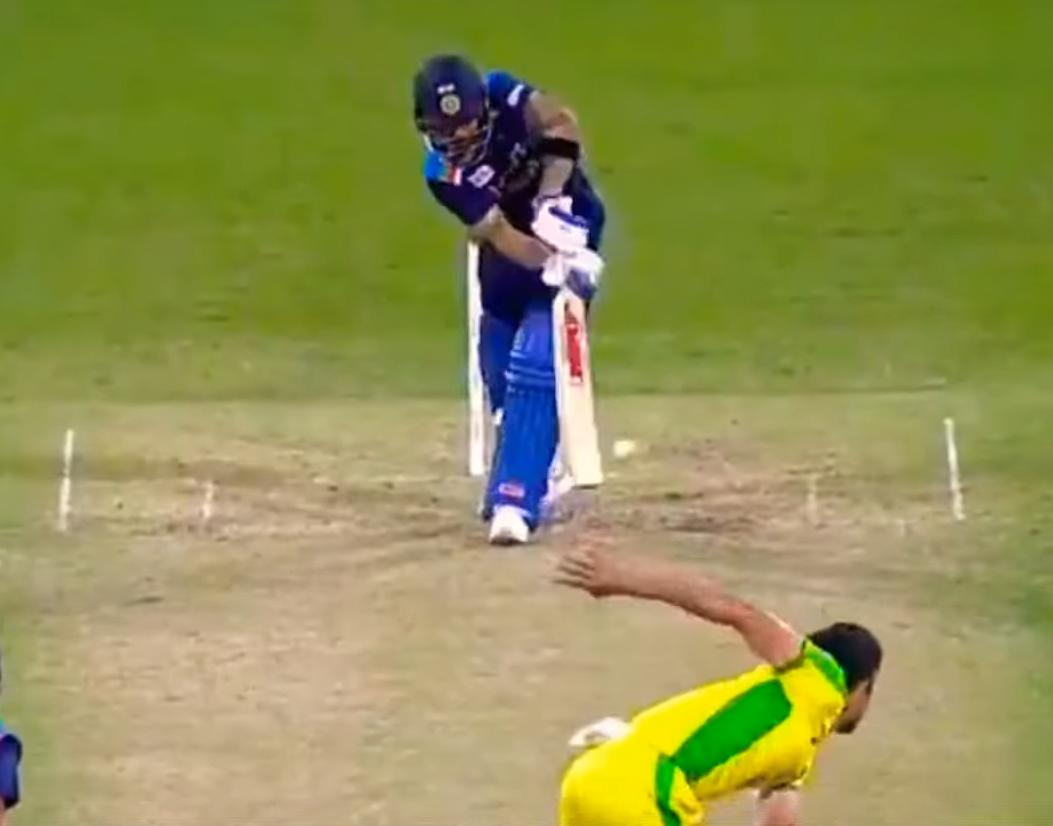Cricket-Ball: (607, 431, 641, 469)
